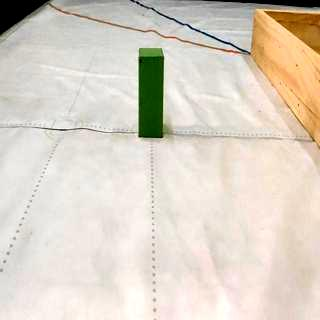greenbox: (138, 46, 164, 138)
